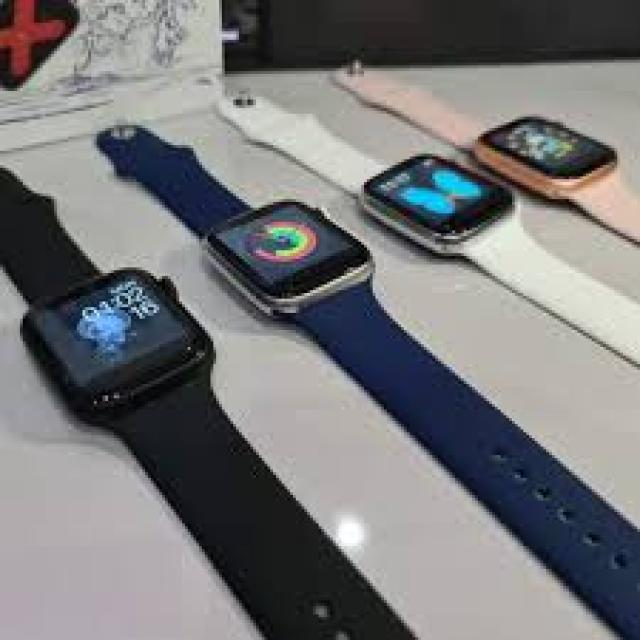watch: (192, 186, 396, 328)
